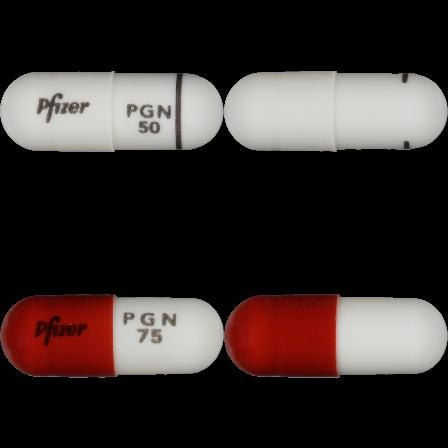55154-2430: (0, 0, 224, 224)
